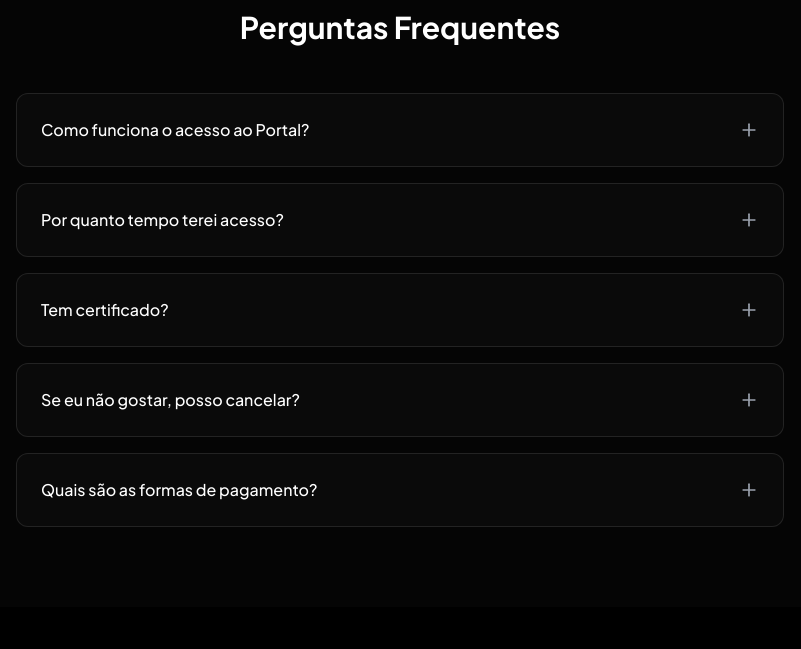
FAQSection - Comportamento de toggle › abrir uma pergunta diferente fecha a anterior (apenas uma aberta por vez)
This screenshot has width=801, height=649.
Abre primeira pergunta
Click the button "Como funciona o acesso ao Portal?" at point(175, 130), box [17,94,783,166]
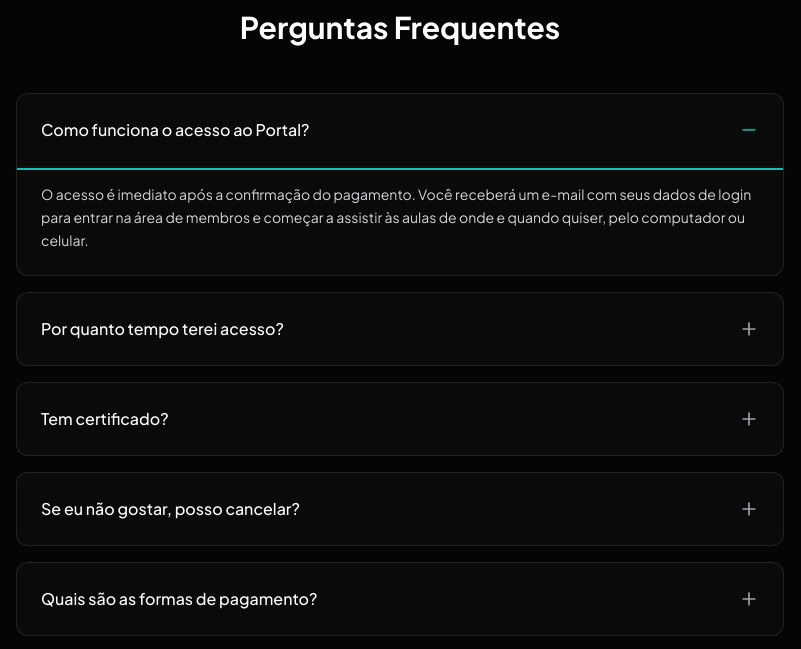
Expected: the text "O acesso é imediato após a confirmação" is shown, [41,185,751,248]
Abre segunda pergunta
Click the button "Por quanto tempo terei acesso?" at point(162, 329), box [17,293,783,365]
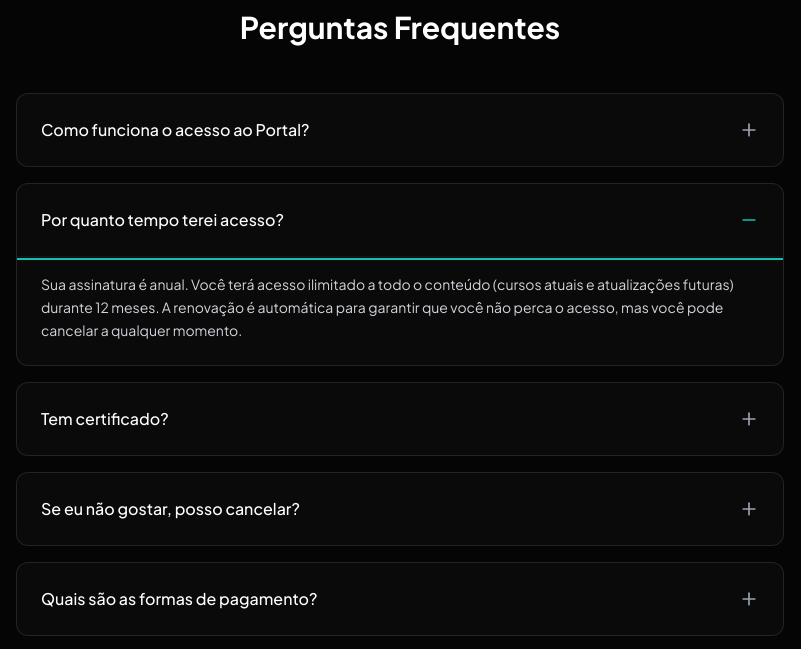
Expected: the text "Sua assinatura é anual" is shown, [41,275,734,338]
Expected: the button "Como funciona o acesso ao Portal?" is collapsed, [17,94,783,166]
Expected: the button "Por quanto tempo terei acesso?" is expanded, [17,184,783,256]
